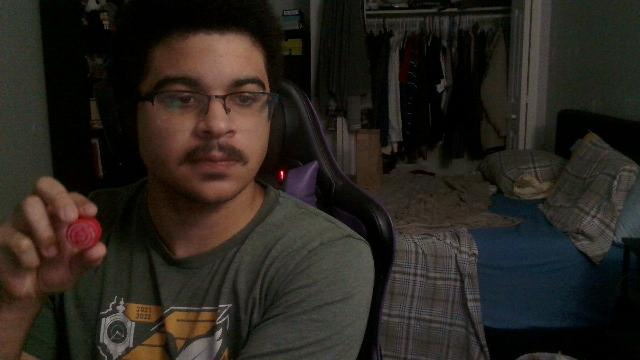cap: (66, 215, 102, 249)
